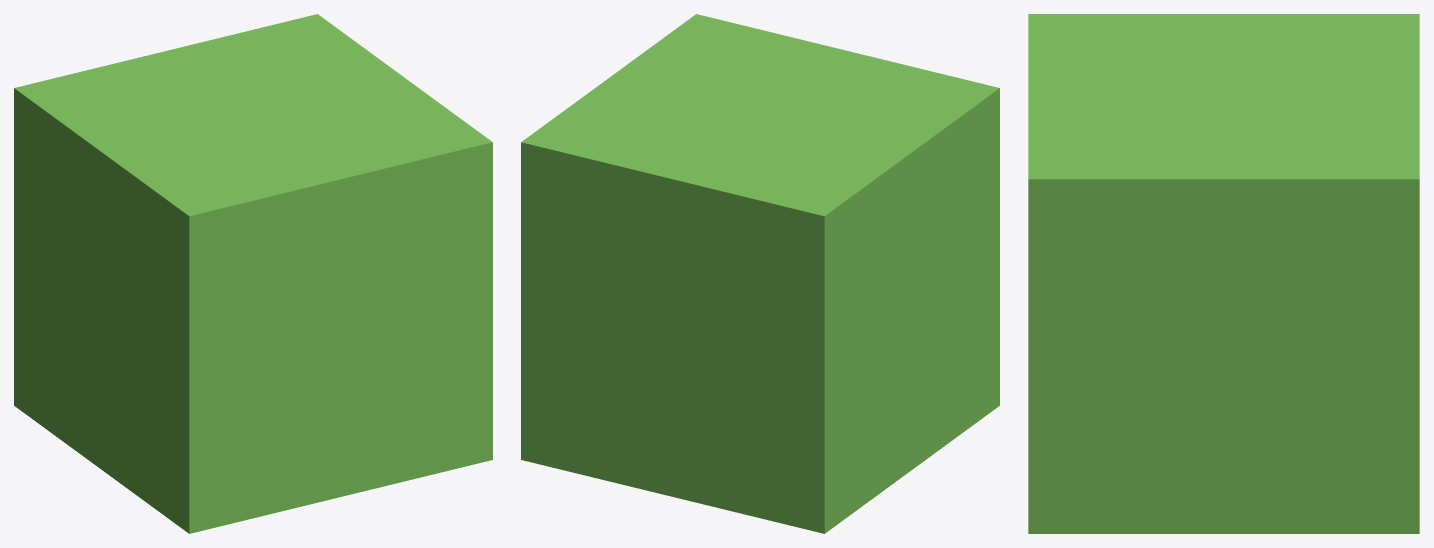
Rendered from outside_slime.obj.
3 renders of one model, left to right at view 1: azimuth 30°, elevation 25°; view 2: azimuth 150°, elevation 25°; view 3: azimuth 270°, elevation 25°, orthographic. The views are drawn at different scales.
Size of the model in its own units: 1 by 1 by 1.
1 material, 1 textured.
